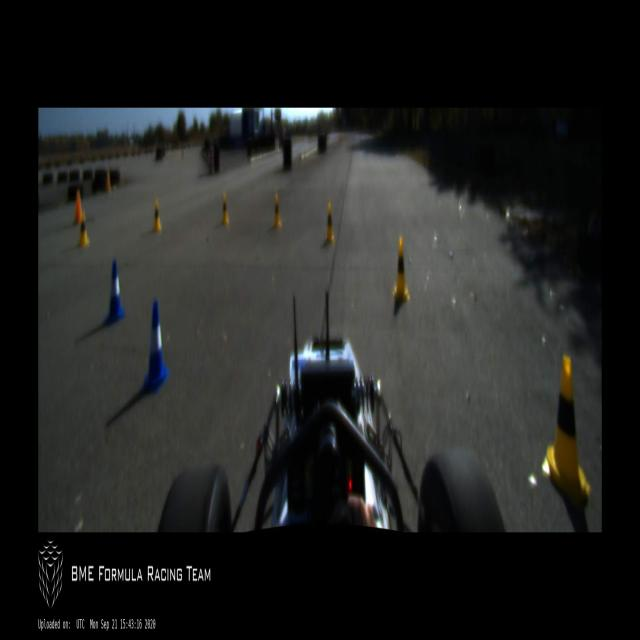blue_cone: (141, 300, 169, 392), (104, 260, 125, 325)
yellow_cone: (543, 355, 591, 508), (393, 237, 410, 301), (324, 200, 335, 243), (78, 210, 89, 248), (151, 199, 161, 232), (272, 194, 280, 228), (221, 193, 228, 225)
